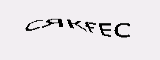Е: (98, 21, 113, 38)
К: (65, 17, 86, 34)
С: (114, 22, 131, 39), (23, 18, 41, 33)
Я: (40, 17, 63, 29)
Ғ: (84, 20, 97, 34)
